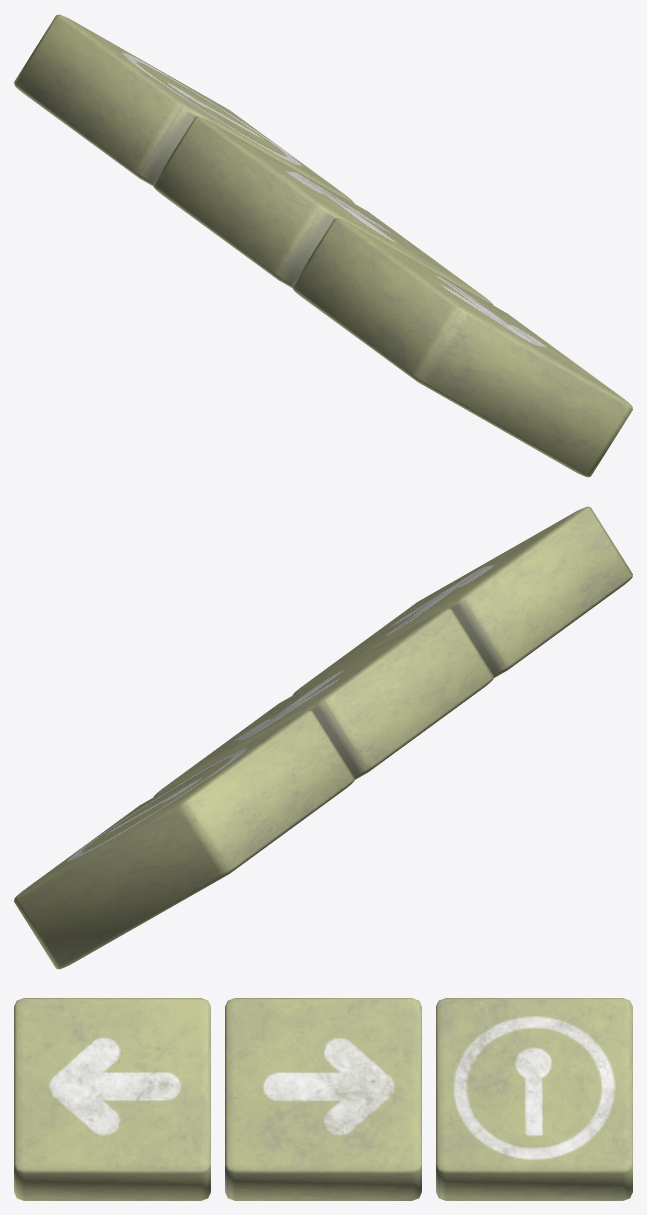
Rendered from knopki_for_pcpopa.fbx.
3 renders of one model, top to bottom at view 1: azimuth 30°, elevation 25°; view 2: azimuth 150°, elevation 25°; view 3: azimuth 270°, elevation 25°, orthographic. The views are drawn at different scales.
Visible parts, largest first — view 1: Cube.008, Cube.010, Cube.009; view 2: Cube.009, Cube.010, Cube.008; view 3: Cube.010, Cube.009, Cube.008.
Part boxes in pixels (x1,y1,x2,y2): Cube.008: (292, 218, 632, 477); Cube.010: (153, 116, 493, 304); Cube.009: (14, 14, 354, 203); Cube.009: (14, 710, 354, 969); Cube.010: (153, 608, 493, 796); Cube.008: (292, 506, 632, 695); Cube.010: (225, 998, 421, 1200); Cube.009: (436, 998, 632, 1200); Cube.008: (14, 998, 210, 1200).
Size of the model in its own units: 12.22 by 10.71 by 39.32.
3 materials, 3 textured.
